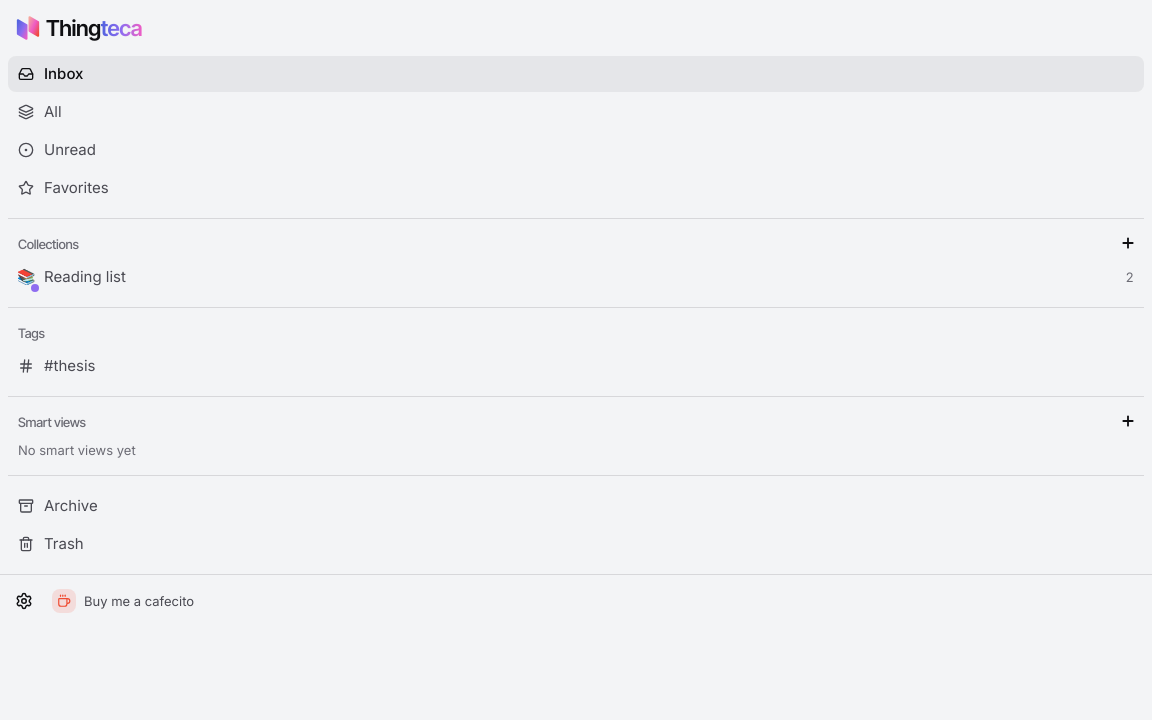
Scenario: new collection › rejects more than one emoji and keeps the dialog open
Step 1. Click the button named "New collection" → point(1128, 243), box [1116,231,1140,255]
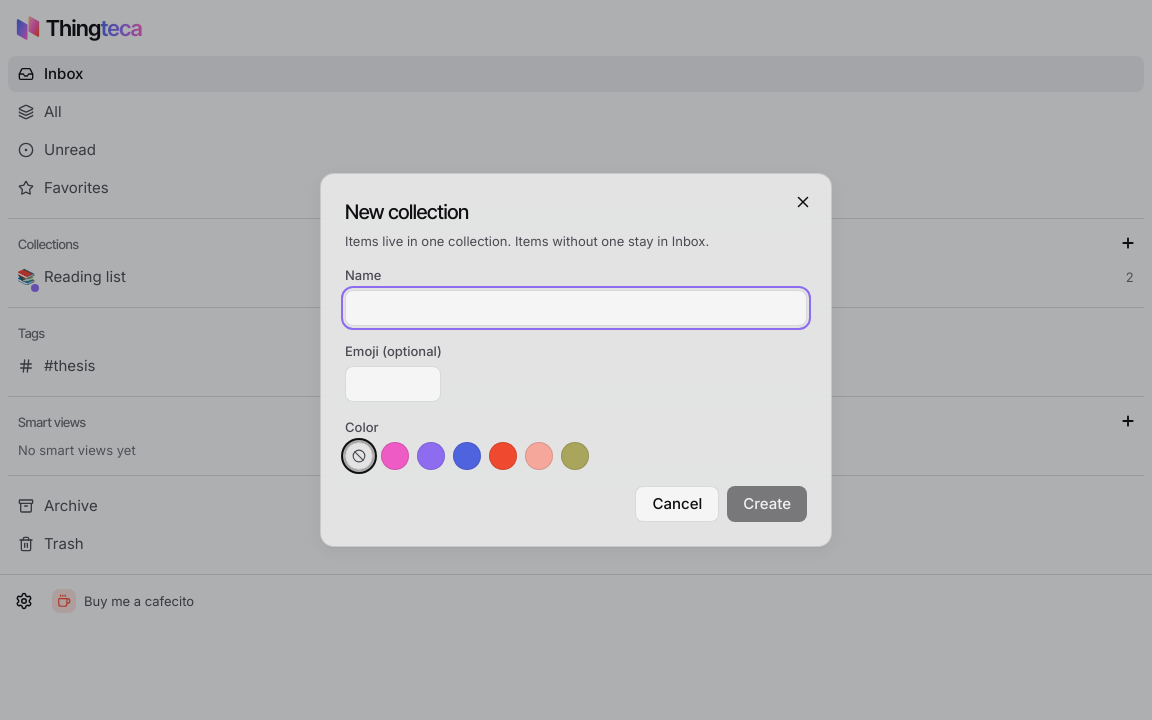
Step 2. Type "Ideas" into the field labelled "Name" → point(576, 308), box [345,290,807,326]
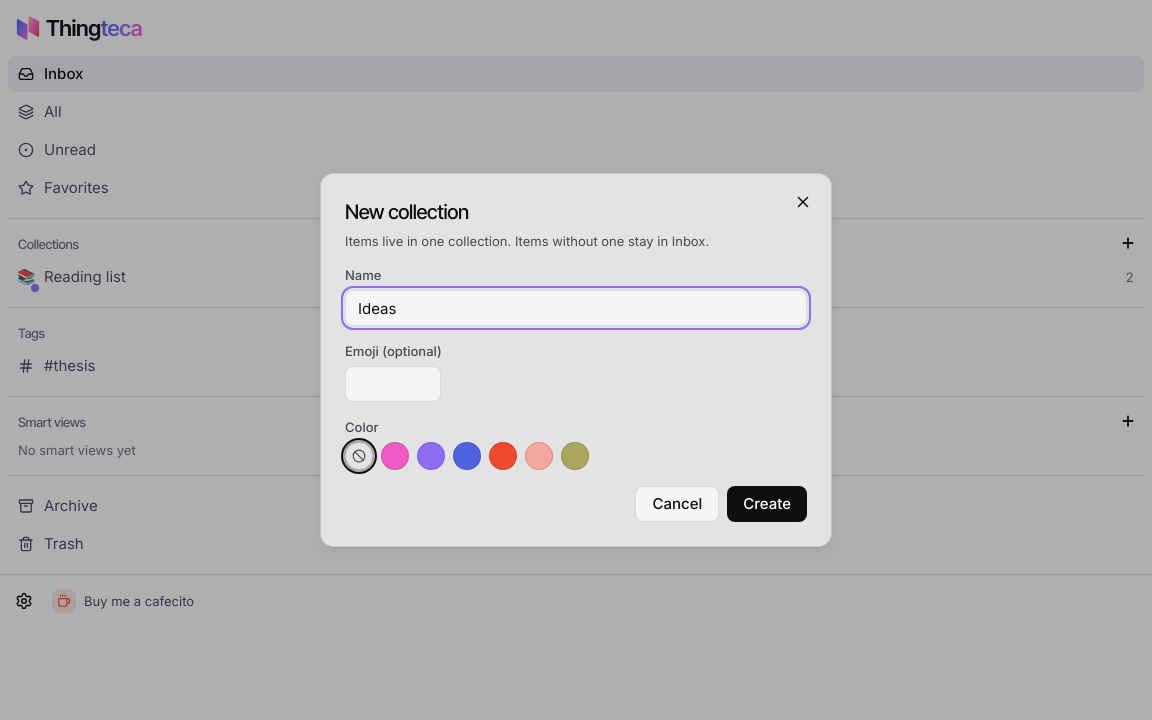
Step 3. Type "💡📚" into the field labelled "Emoji (optional)" → point(393, 384), box [345,366,441,402]
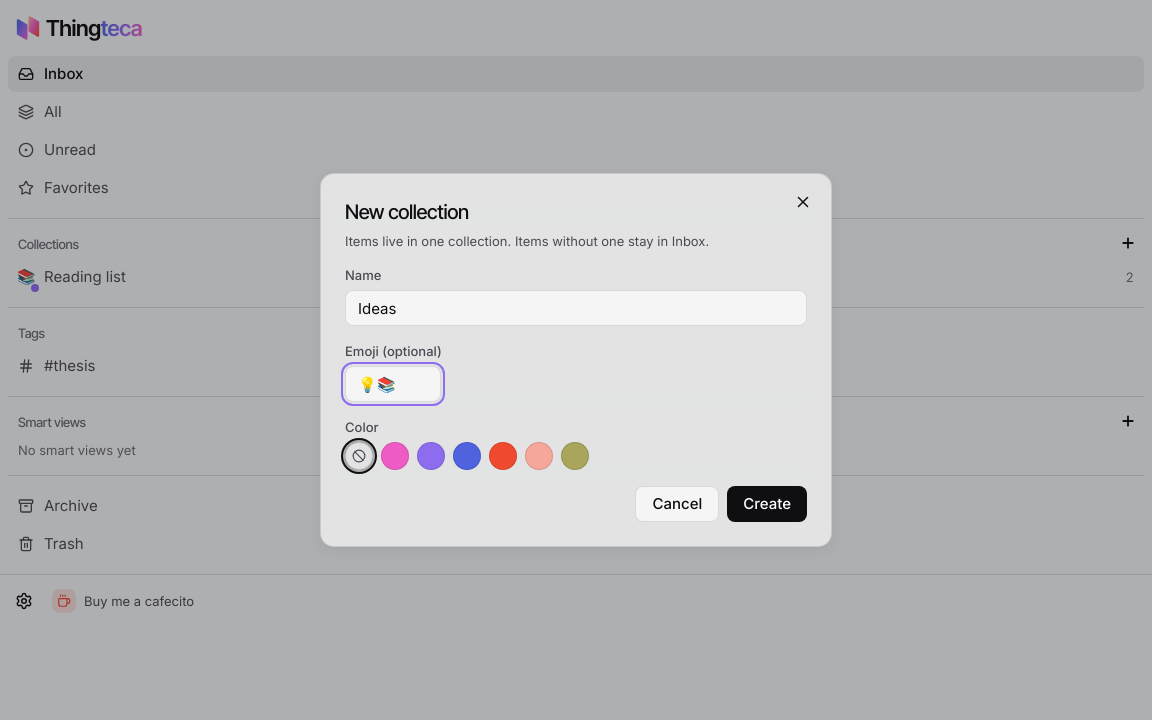
Step 4. Click the button "Create" → point(767, 504), box [727,486,807,522]
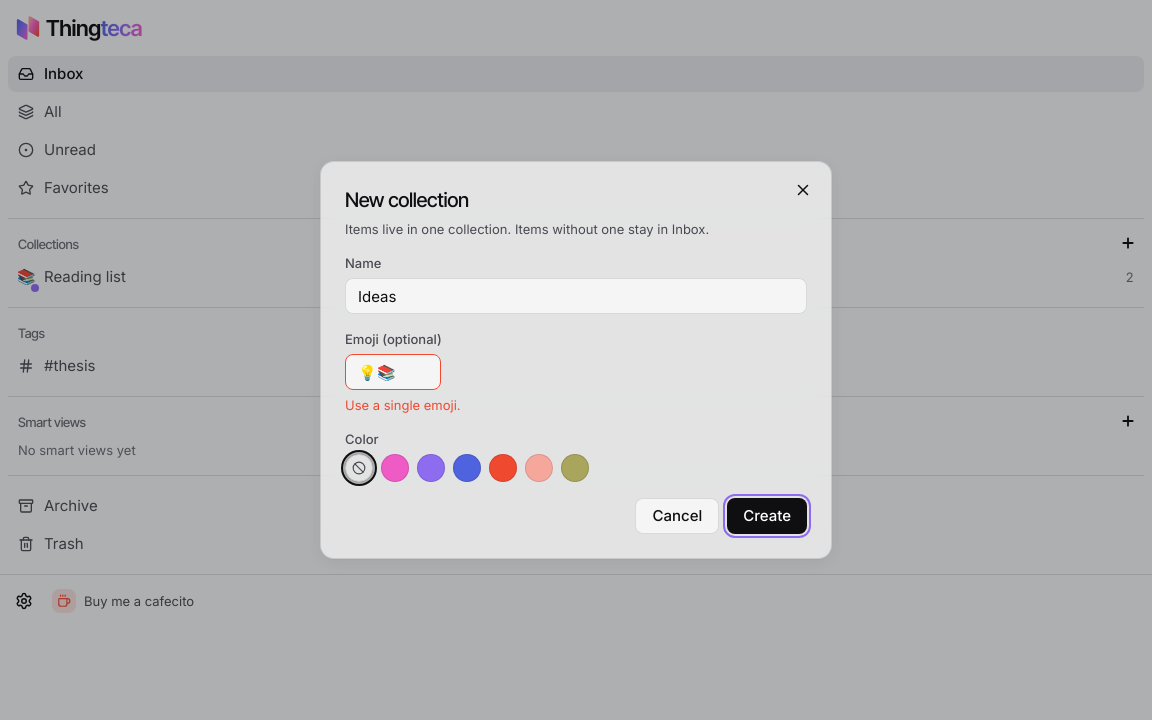
Now the message reads "Use a single emoji.", box [345,397,461,413]
